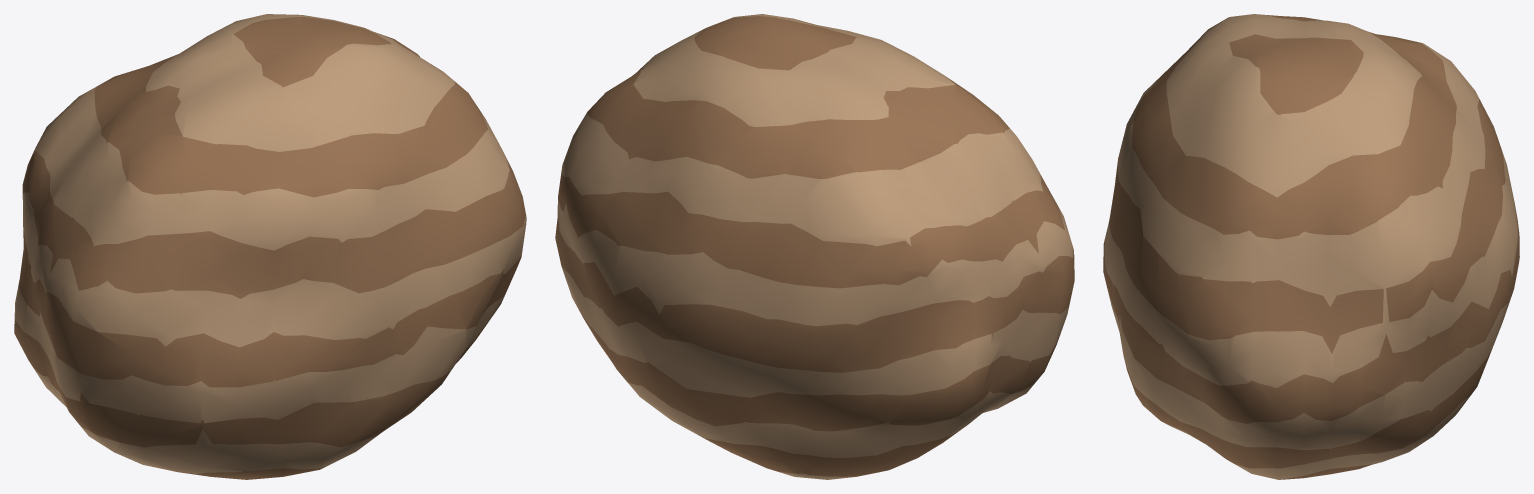
File: sandstone_rock_1.glb
3 views of the same model, side by side, from view 1: azimuth 30°, elevation 25°; view 2: azimuth 150°, elevation 25°; view 3: azimuth 270°, elevation 25° (orthographic). The views are drawn at different scales.
Visible parts, largest first — view 1: sandstone_rock_1; view 2: sandstone_rock_1; view 3: sandstone_rock_1.
Part boxes in pixels (box(x1,y1,x2,y2)): sandstone_rock_1: box(14, 14, 526, 479); sandstone_rock_1: box(555, 14, 1074, 479); sandstone_rock_1: box(1103, 14, 1519, 479).
Size of the model in its own units: 2.69 by 2.23 by 1.99.
